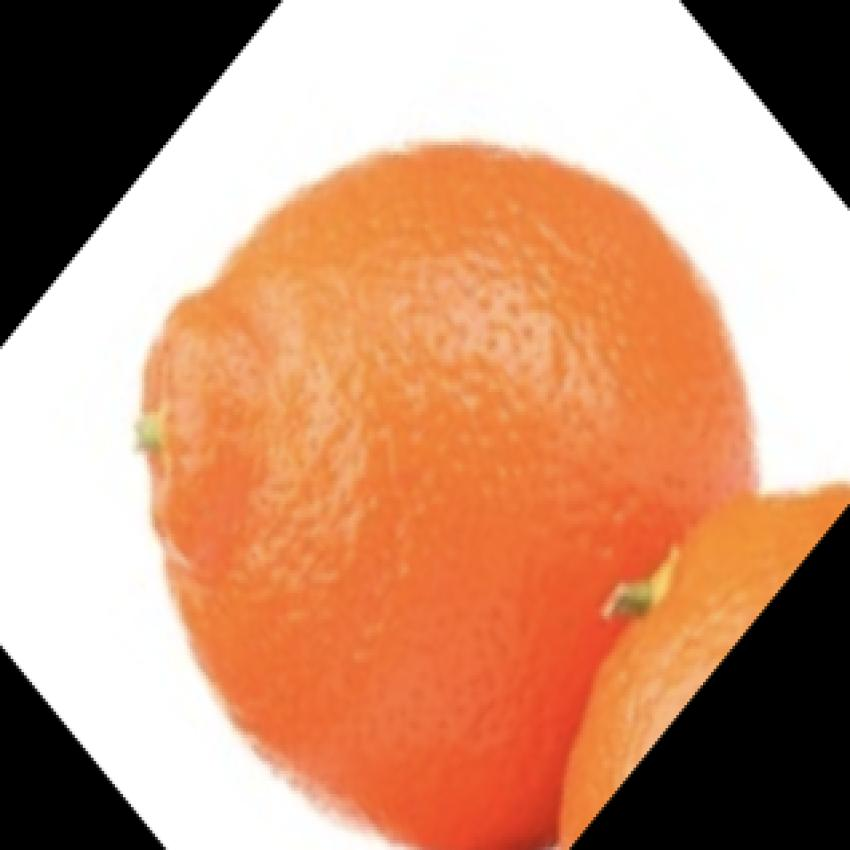Buen estado: (118, 121, 788, 840)
